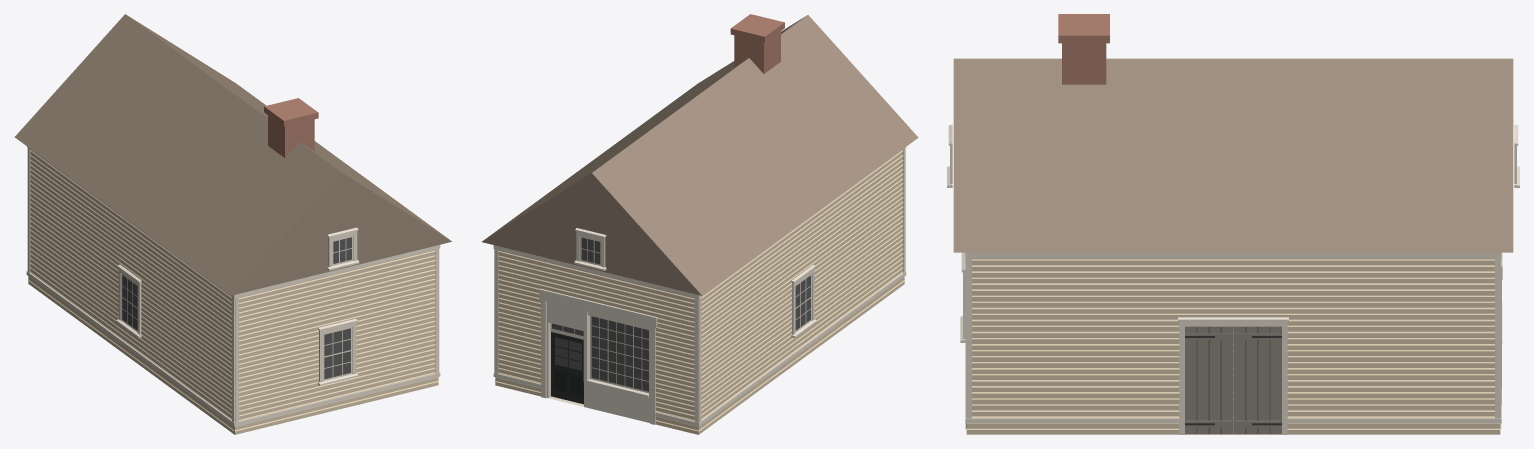
The model's file is recon_1835_blk_south_water_wells_c2_01__inferred_1835.glb.
3 views of the same model, side by side, from view 1: azimuth 30°, elevation 25°; view 2: azimuth 150°, elevation 25°; view 3: azimuth 270°, elevation 25° (orthographic). The views are drawn at different scales.
Parts seen in each view (by area): view 1: recon_1835_blk_south_water_wells_c2_01__inferred_1835; view 2: recon_1835_blk_south_water_wells_c2_01__inferred_1835; view 3: recon_1835_blk_south_water_wells_c2_01__inferred_1835.
Boxes of the visible parts, x1,y1,x2,y2 form: recon_1835_blk_south_water_wells_c2_01__inferred_1835: (14, 14, 451, 434); recon_1835_blk_south_water_wells_c2_01__inferred_1835: (482, 14, 918, 434); recon_1835_blk_south_water_wells_c2_01__inferred_1835: (947, 14, 1519, 434).
Size of the model in its own units: 6.29 by 7.26 by 10.91.
